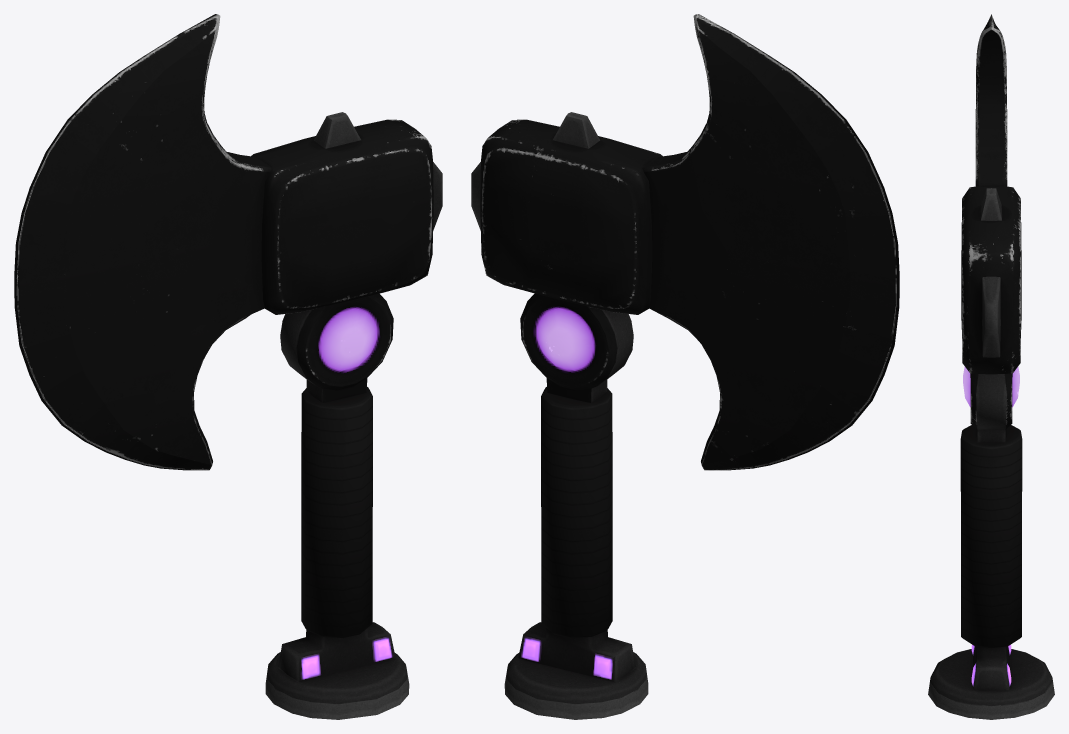
File: PortalMageBlackAxe.fbx
The picture shows the model from 3 angles, left to right: view 1: azimuth 30°, elevation 25°; view 2: azimuth 150°, elevation 25°; view 3: azimuth 270°, elevation 25°; orthographic projection. The views are drawn at different scales.
Parts seen in each view (by area): view 1: PortalMageBlackAxe; view 2: PortalMageBlackAxe; view 3: PortalMageBlackAxe.
Part boxes in pixels (x1,y1,x2,y2): PortalMageBlackAxe: (14,14,442,719); PortalMageBlackAxe: (471,14,899,719); PortalMageBlackAxe: (928,14,1054,719).
Bounding box in the file's own units: 7.27 × 11.51 × 2.15.
